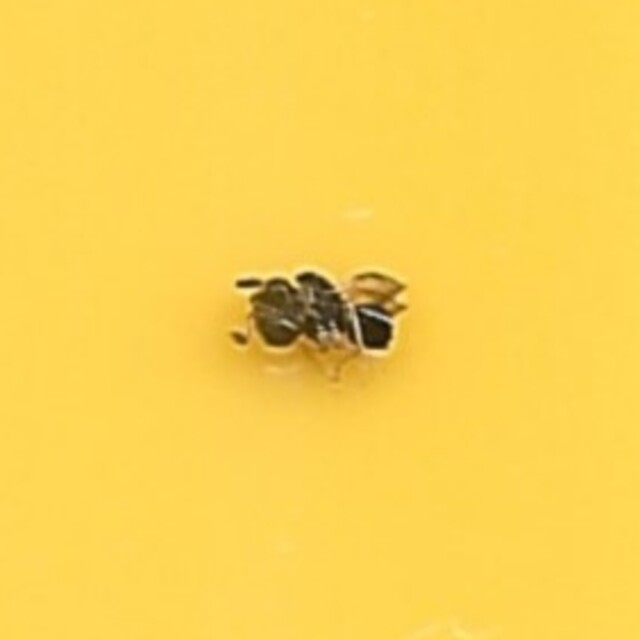Hymenoptera: (227, 257, 413, 383)
